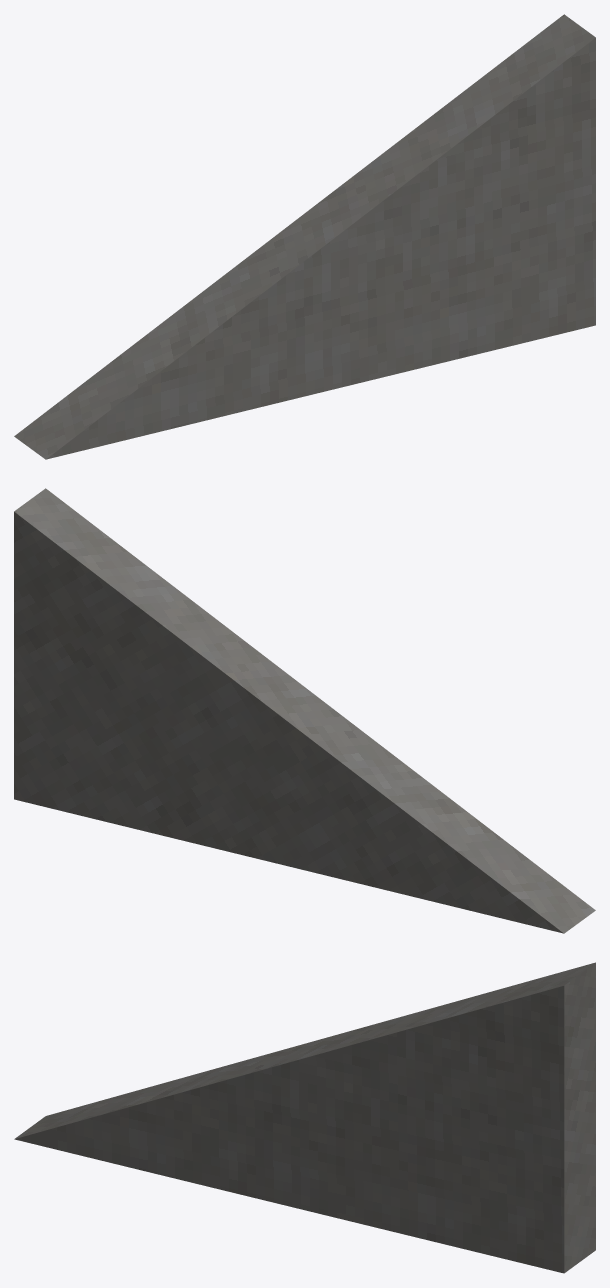
The model's file is half_triangle_wall.glb.
3 renders of one model, top to bottom at view 1: azimuth 30°, elevation 25°; view 2: azimuth 150°, elevation 25°; view 3: azimuth 330°, elevation 25°, orthographic.
Parts seen in each view (by area): view 1: triangle_half_wall; view 2: triangle_half_wall; view 3: triangle_half_wall.
Part boxes in pixels (x1,y1,x2,y2): triangle_half_wall: (14, 14, 595, 459); triangle_half_wall: (14, 488, 595, 933); triangle_half_wall: (14, 962, 595, 1273).
Size of the model in its own units: 2 by 1 by 0.2.
Materials: 1 (1 with a texture image).
